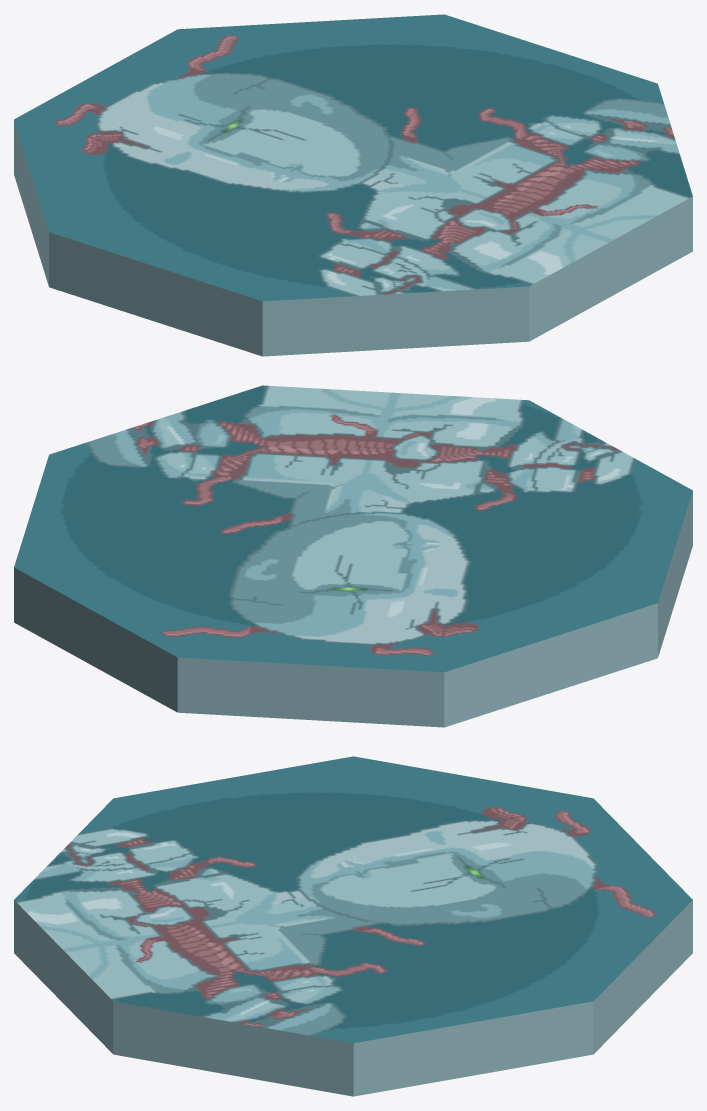
File: Sullied Statue Coin Collider.fbx
The picture shows the model from 3 angles, top to bottom: view 1: azimuth 30°, elevation 25°; view 2: azimuth 150°, elevation 25°; view 3: azimuth 270°, elevation 25°; orthographic projection. The views are drawn at different scales.
Parts seen in each view (by area): view 1: (Cyan) Sullied Statue Coin.001; view 2: (Cyan) Sullied Statue Coin.001; view 3: (Cyan) Sullied Statue Coin.001.
Part boxes in pixels (box(x1,y1,x2,y2)): (Cyan) Sullied Statue Coin.001: box(14, 14, 692, 356); (Cyan) Sullied Statue Coin.001: box(14, 385, 692, 727); (Cyan) Sullied Statue Coin.001: box(14, 756, 692, 1096).
Bounding box in the file's own units: 183 × 15.83 × 183.
